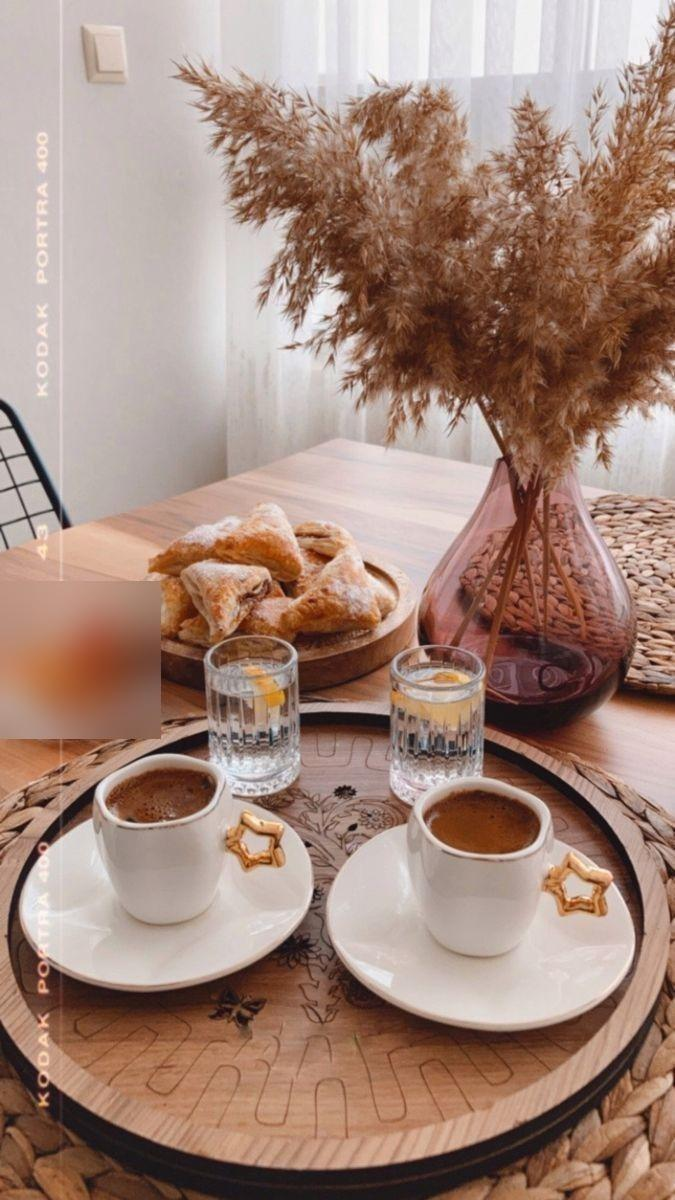cup-handle: (402, 778, 614, 958), (91, 753, 288, 927)
glass-normal: (203, 637, 302, 798), (387, 644, 486, 805)
